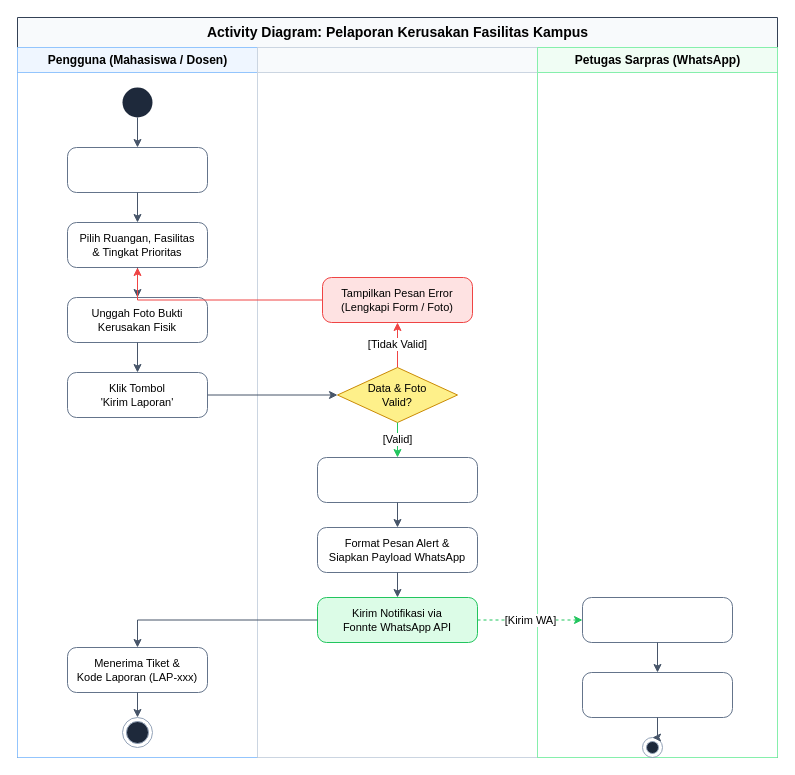
Image size: 795x775. Some labels were removed from this diagram. The shapes that lost their labels are listed below. From the top down, each one's box as (x1, y1, x2, y2) in pixels, then its label:
(66, 146, 208, 192): Pilih Menu Lapor Kerusakan
(256, 46, 538, 758): Sistem Informasi Fasilitas
(316, 456, 478, 502): Generate Kode Laporan & Simpan Data ke Database
(582, 596, 732, 642): Menerima Pesan WA Alert Kerusakan Fasilitas
(582, 672, 732, 718): Buka Link Laporan & Persiapkan Pengecekan
